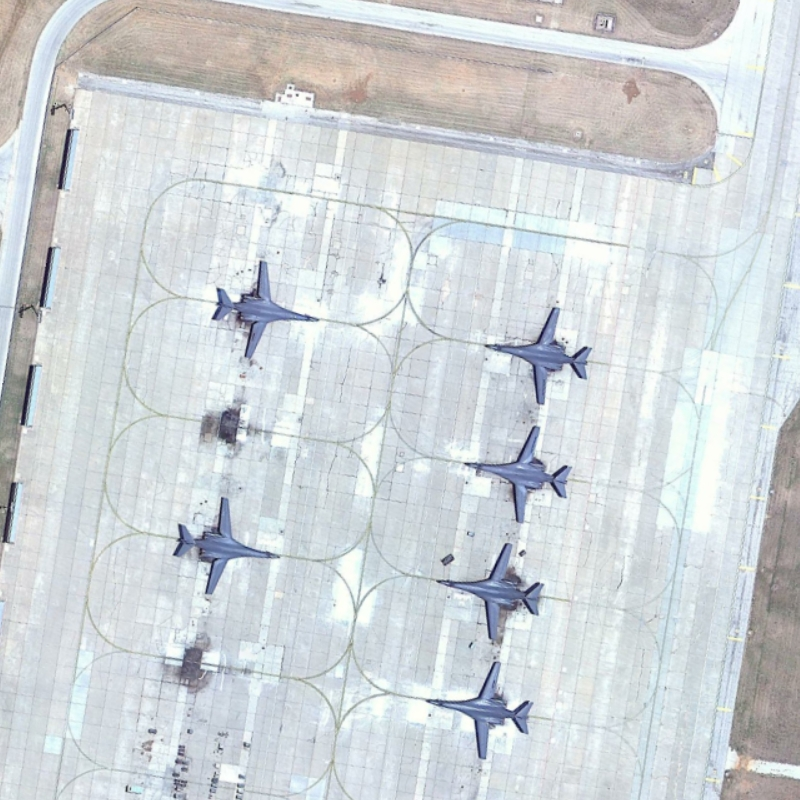A10: (418, 650, 537, 766), (208, 252, 328, 367), (458, 421, 586, 527), (482, 297, 599, 411), (167, 487, 286, 598), (430, 539, 549, 642)
